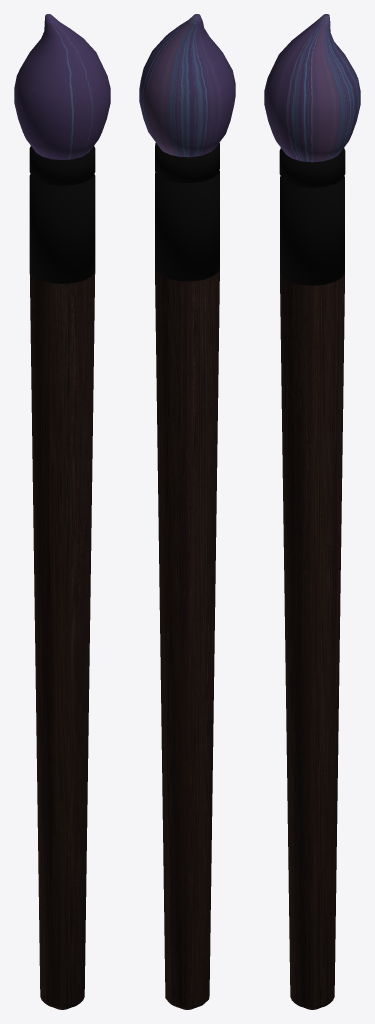
File: Paintbrush_Wet.glb
The picture shows the model from 3 angles, left to right: view 1: azimuth 90°, elevation 25°; view 2: azimuth 210°, elevation 25°; view 3: azimuth 270°, elevation 25°; orthographic projection.
Parts seen in each view (by area): view 1: Brush; view 2: Brush; view 3: Brush.
Part boxes in pixels (<box>): Brush: <box>14,14,110,1009</box>; Brush: <box>139,14,235,1009</box>; Brush: <box>264,14,360,1009</box>.
Bounding box in the file's own units: 0.1821 × 2.07 × 0.1821.
Materials: 1 (1 with a texture image).
